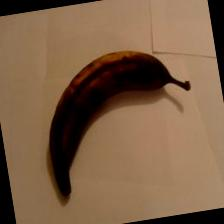Banana Rotten: (47, 27, 206, 126), (34, 59, 99, 200)
